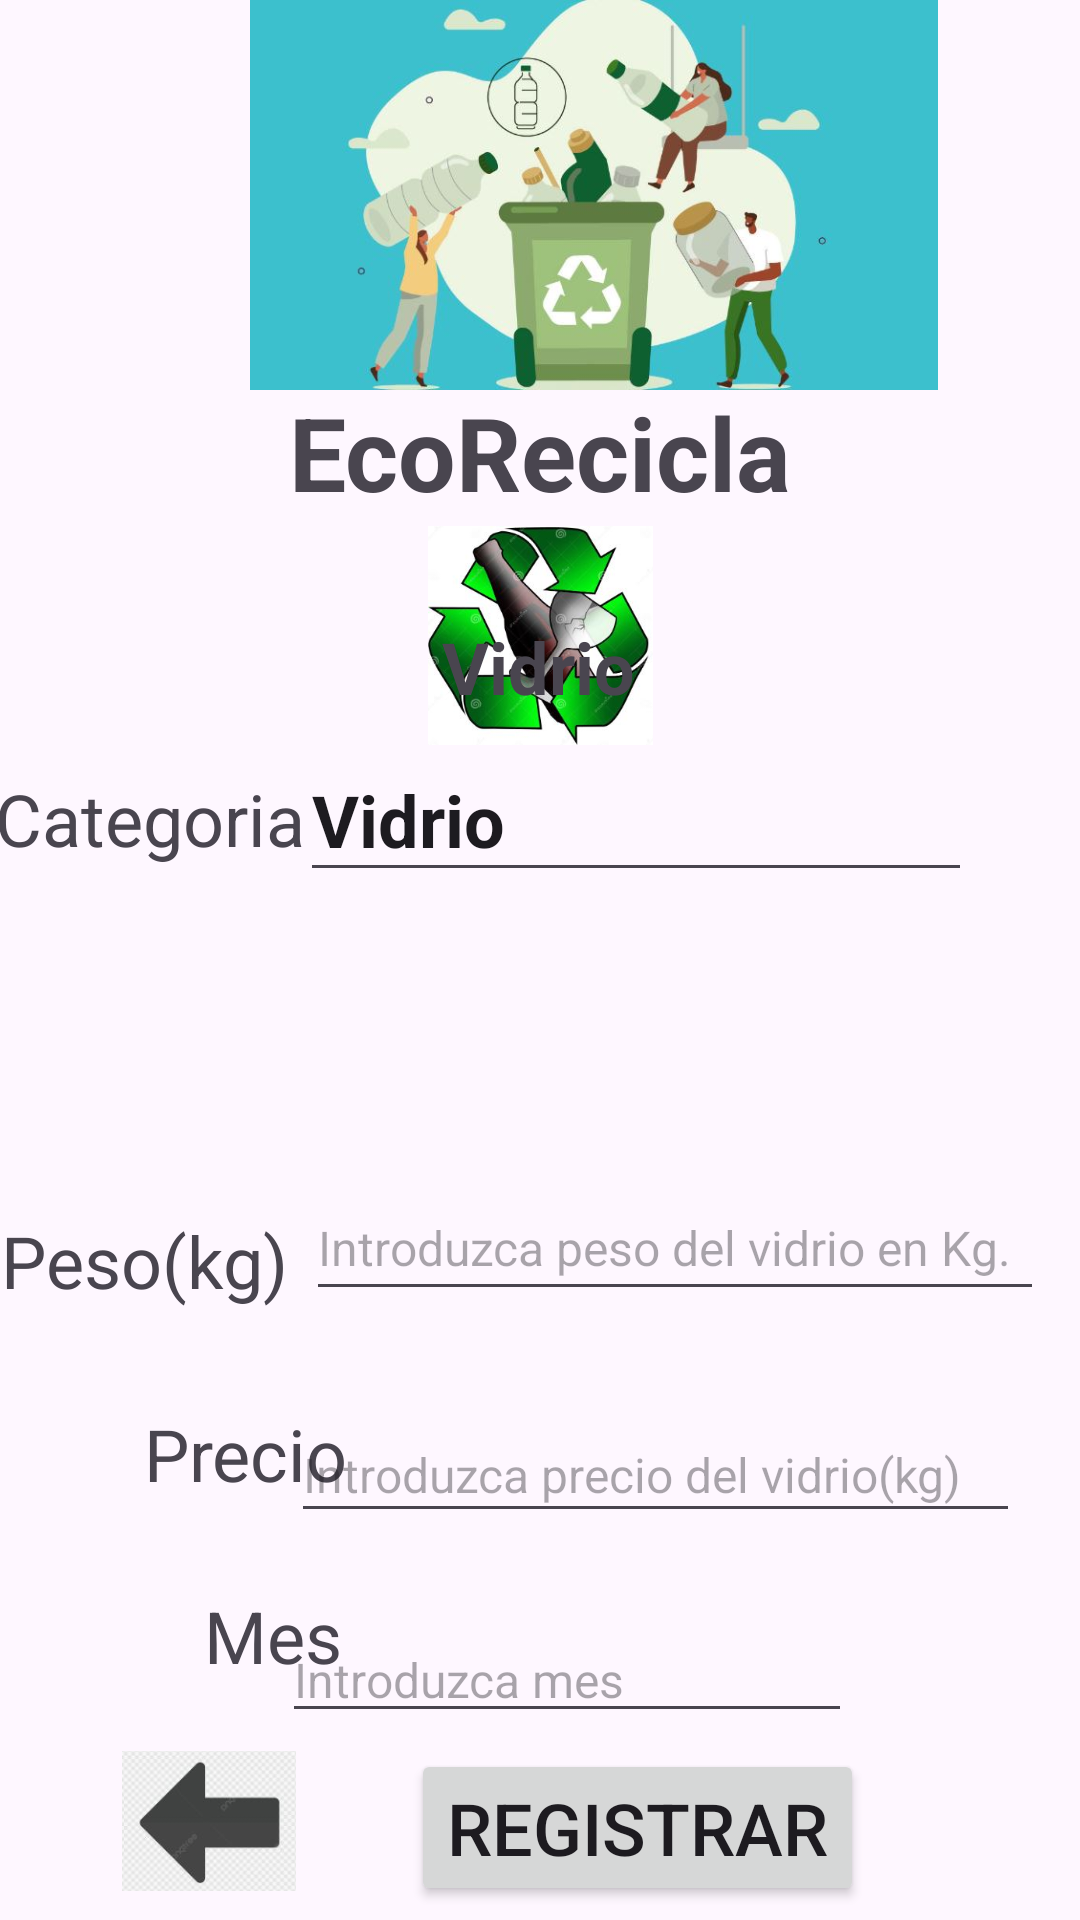

Point at icon controls on the screen. Image size 1080px×1920px, points as (x,y).
atras: (209,1821)
